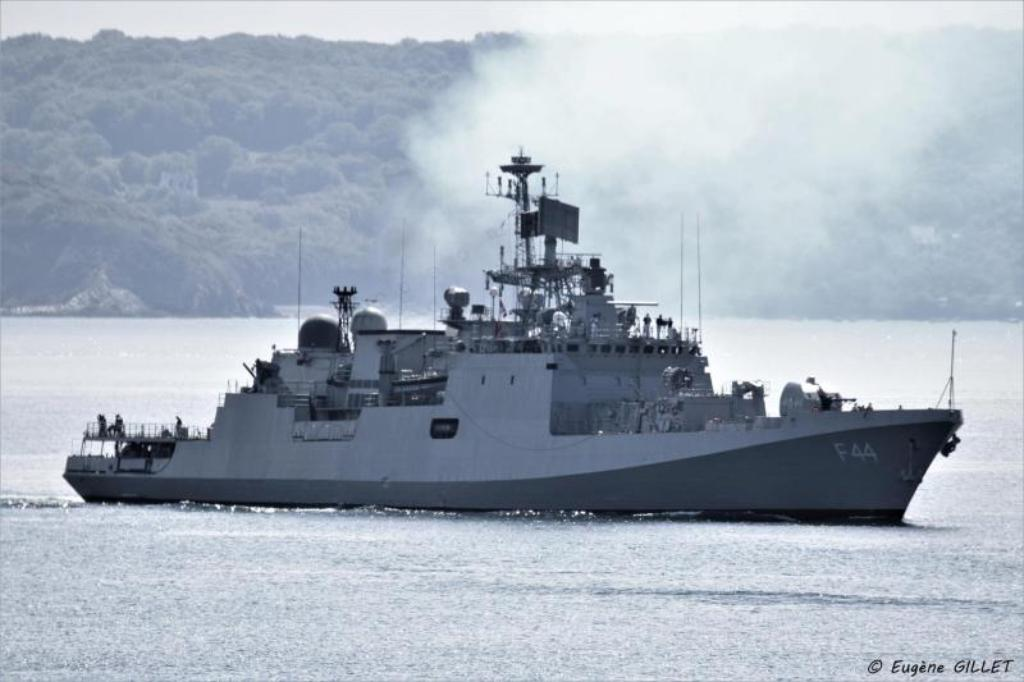Warship: (62, 146, 962, 530)
